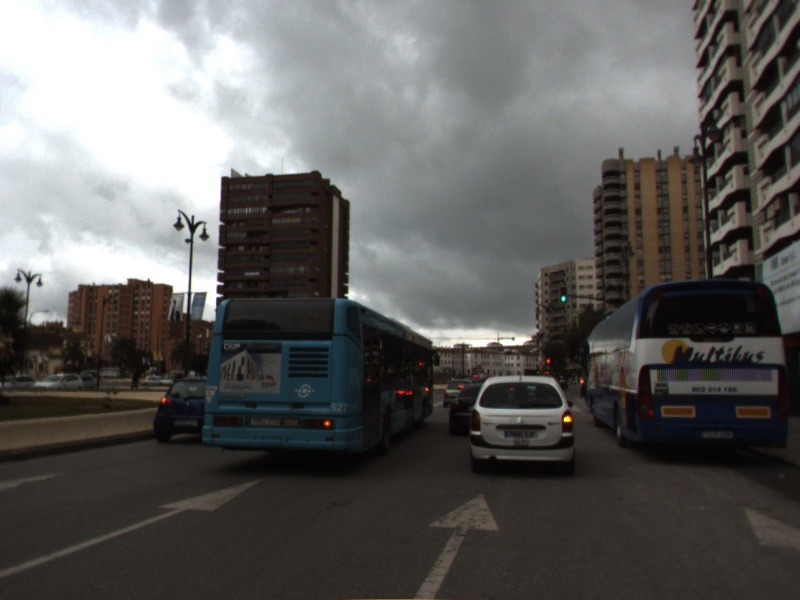STRAIGHT: (1, 473, 272, 580), (407, 488, 505, 600)
